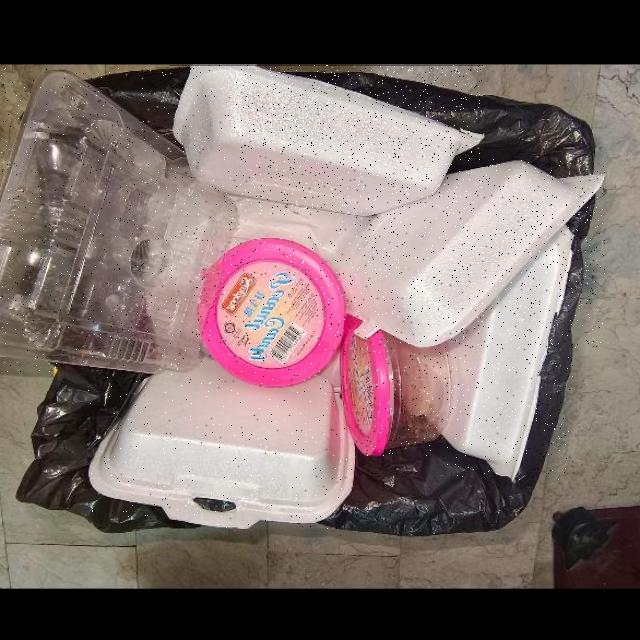plastic: (197, 236, 348, 386), (340, 329, 450, 456)
styrofoam: (0, 68, 240, 372), (332, 159, 605, 348), (170, 65, 483, 215), (88, 357, 355, 529), (443, 223, 573, 480)
